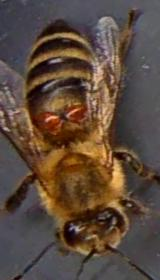varroa_mite: (58, 96, 92, 122), (35, 100, 63, 128)
